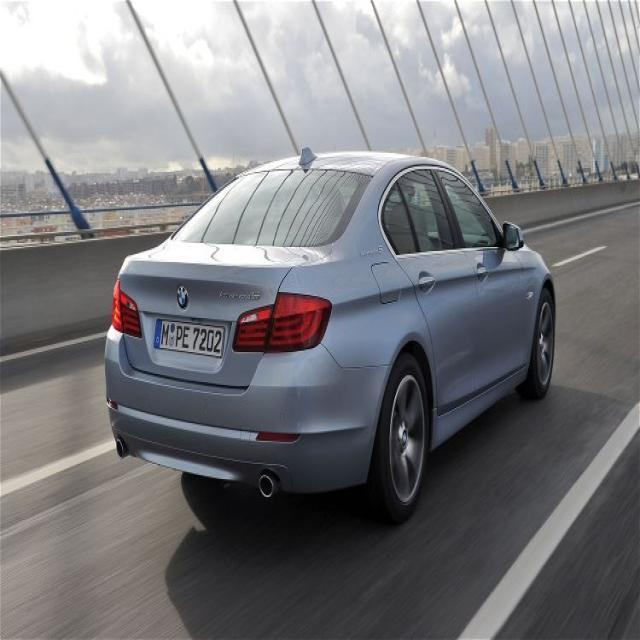car: (104, 150, 574, 520)
